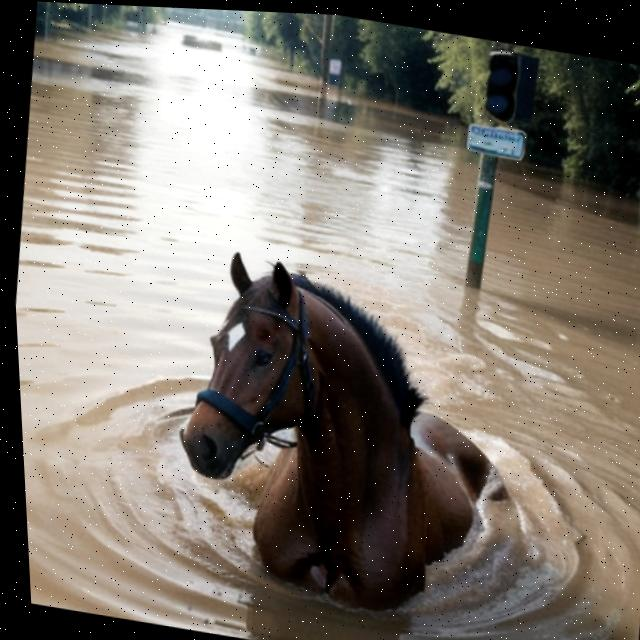horse: (124, 228, 555, 640)
